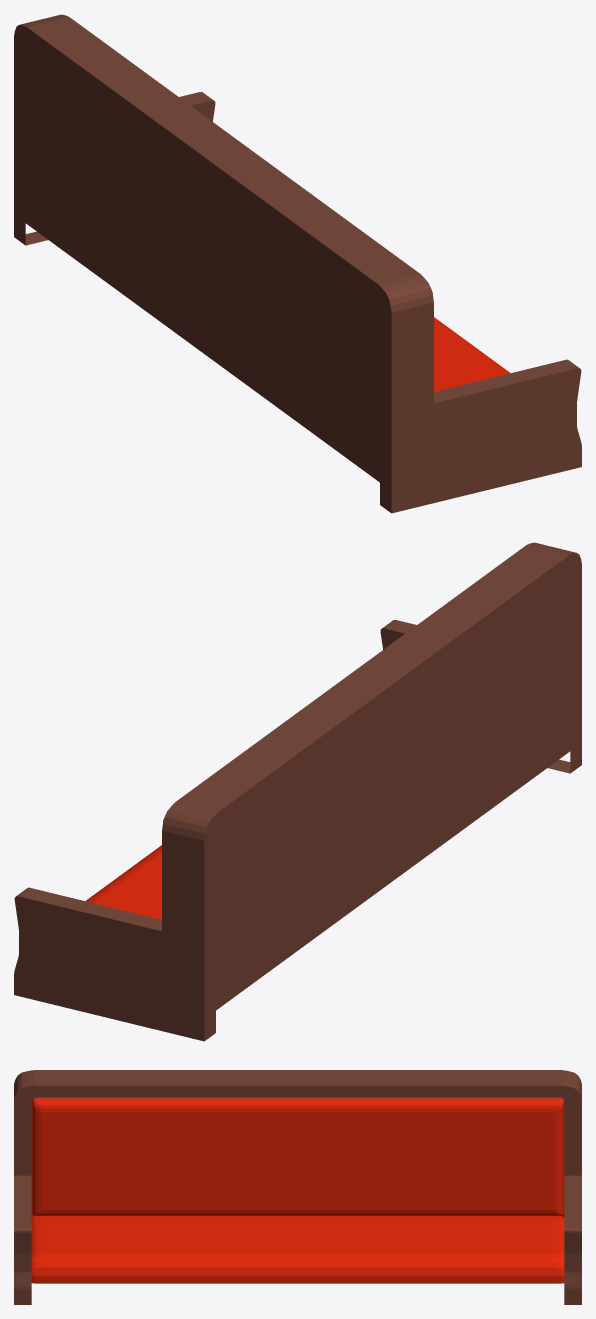
File: bench.glb
3 renders of one model, top to bottom at view 1: azimuth 30°, elevation 25°; view 2: azimuth 150°, elevation 25°; view 3: azimuth 270°, elevation 25°, orthographic. The views are drawn at different scales.
Visible parts, largest first — view 1: bench; view 2: bench; view 3: bench.
Boxes of the visible parts, bbox=[...] form: bench: bbox=[14, 14, 581, 513]; bench: bbox=[14, 542, 581, 1041]; bench: bbox=[14, 1070, 581, 1304].
Bounding box in the file's own units: 0.5 × 0.5504 × 1.72.
